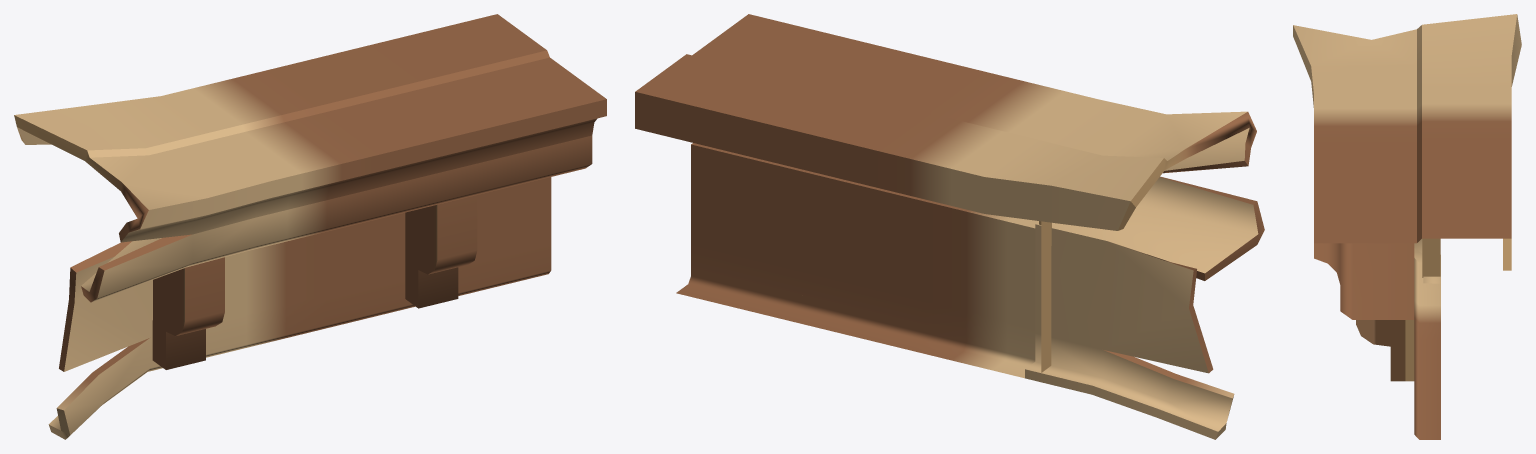
Rendered from DBK_Cornice_B_End_Mirror.fbx.
3 views of the same model, side by side, from view 1: azimuth 30°, elevation 25°; view 2: azimuth 150°, elevation 25°; view 3: azimuth 270°, elevation 25° (orthographic). The views are drawn at different scales.
Visible parts, largest first — view 1: DBK_Cornice_B_End_Mirror; view 2: DBK_Cornice_B_End_Mirror; view 3: DBK_Cornice_B_End_Mirror.
Part boxes in pixels (x1=…): DBK_Cornice_B_End_Mirror: x1=14, y1=14, x2=606, y2=439; DBK_Cornice_B_End_Mirror: x1=635, y1=14, x2=1264, y2=439; DBK_Cornice_B_End_Mirror: x1=1293, y1=14, x2=1521, y2=439.
Size of the model in its own units: 151 by 76.11 by 65.12.
